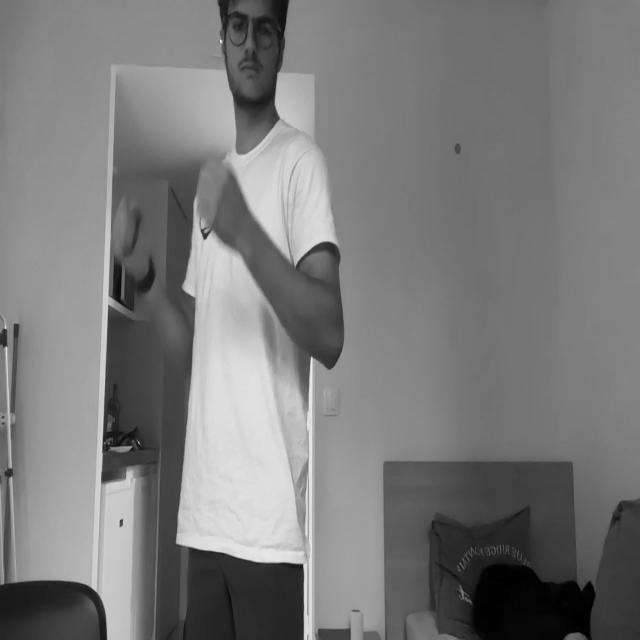elbow: (310, 301, 345, 371), (174, 332, 195, 378)
hand: (197, 151, 243, 236), (112, 198, 148, 270)
shoulder: (280, 144, 328, 212)
